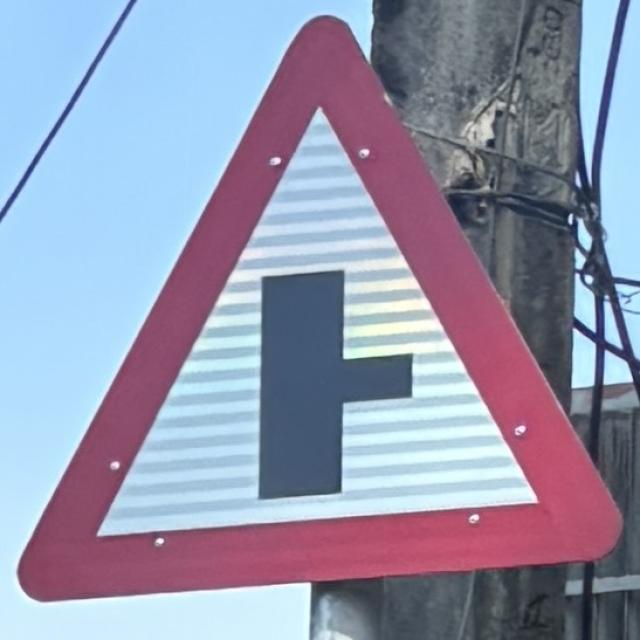SIDE_ROAD_RIGHT: (12, 8, 627, 609)
